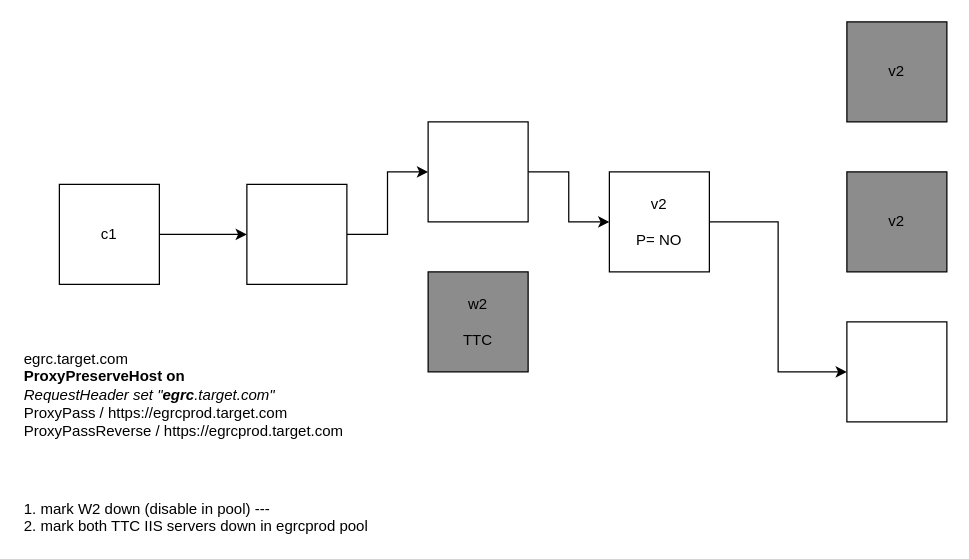
Image size: 969x559. Some labels were removed from this diagram. Here are the shapes that lost their labels. From the top down, the box of each, then its label:
(427, 121, 528, 222): w1 TTC grclx1003
(246, 183, 347, 284): v1 p= NO
(846, 321, 947, 422): v2 (telawgrc002)
